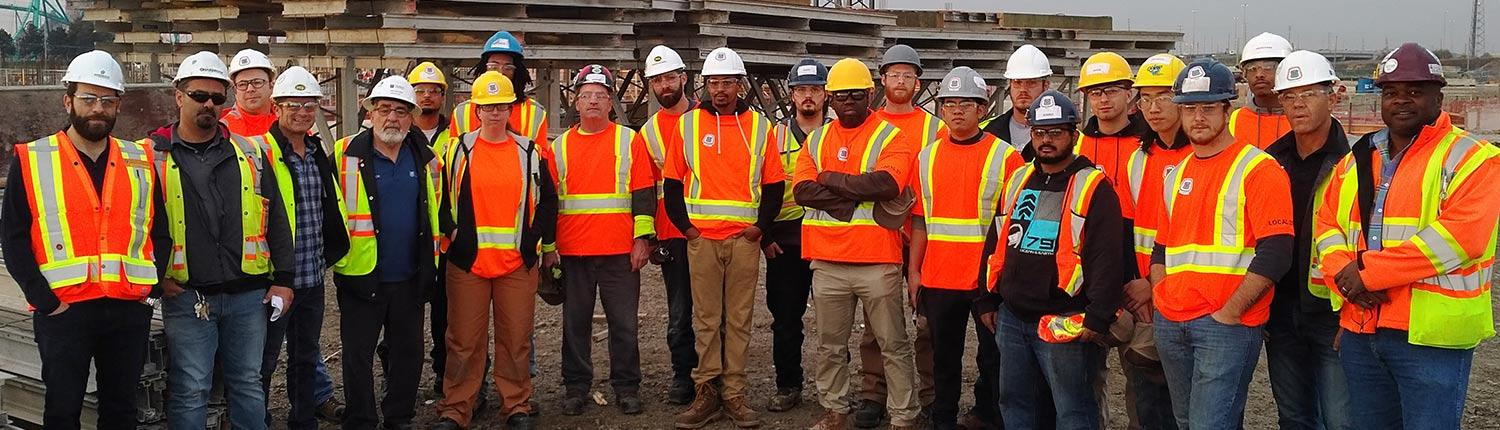helmet: (1271, 50, 1342, 94), (1172, 60, 1237, 105), (1374, 45, 1447, 84), (62, 52, 124, 95), (1027, 90, 1083, 132), (1079, 52, 1132, 93), (272, 67, 324, 107), (1138, 52, 1190, 91), (822, 58, 871, 97), (1003, 45, 1052, 84), (368, 74, 421, 110), (180, 51, 230, 89), (939, 68, 991, 103), (470, 72, 518, 109), (704, 45, 748, 81), (1244, 33, 1291, 65), (880, 42, 924, 75), (642, 45, 685, 78), (229, 50, 275, 80), (574, 67, 618, 98), (788, 59, 830, 89), (481, 30, 525, 58), (411, 62, 448, 89)
